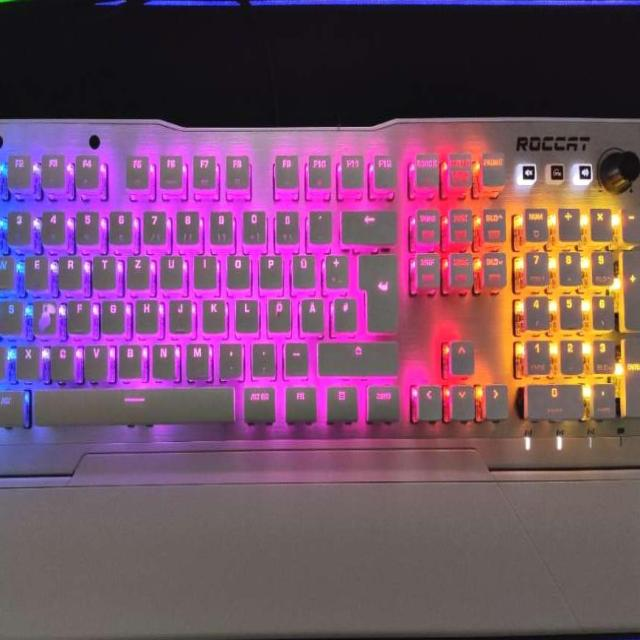0: (240, 205, 265, 241)
1: (0, 208, 12, 243)
2: (0, 208, 13, 244)
3: (5, 207, 30, 244)
4: (40, 207, 64, 242)
5: (73, 207, 98, 242)
6: (107, 206, 132, 242)
7: (140, 206, 165, 243)
8: (173, 206, 199, 243)
9: (207, 206, 232, 242)
a: (0, 297, 12, 332)
accent: (306, 206, 330, 240)
ae: (298, 293, 322, 329)
alt-left: (0, 385, 24, 425)
altgr-right: (241, 381, 274, 419)
b: (116, 340, 141, 376)
c: (49, 341, 72, 377)
caret: (0, 208, 12, 243)
comma: (216, 338, 241, 375)
d: (32, 297, 57, 332)
del: (339, 206, 395, 240)
e: (23, 251, 47, 288)
enter: (356, 247, 395, 331)
f: (66, 296, 89, 331)
g: (99, 296, 123, 331)
h: (133, 295, 156, 330)
hash: (331, 292, 355, 328)
i: (191, 251, 215, 285)
j: (166, 294, 190, 329)
k: (200, 294, 224, 330)
keyboard: (0, 116, 640, 474)
l: (233, 294, 257, 330)
less: (0, 343, 13, 379)
m: (183, 339, 208, 376)
minus: (281, 337, 306, 373)
n: (150, 339, 175, 376)
o: (224, 251, 249, 285)
oe: (265, 293, 289, 330)
p: (257, 250, 281, 286)
plus: (322, 249, 346, 285)
point: (249, 338, 274, 374)
q: (0, 252, 13, 288)
r: (57, 252, 80, 288)
s: (0, 297, 21, 331)
shift-left: (0, 345, 18, 380)
shift-lock: (0, 298, 24, 333)
shift-right: (316, 336, 397, 373)
space: (29, 383, 233, 423)
ss: (273, 207, 298, 242)
strg-left: (0, 388, 18, 428)
strg-right: (364, 380, 398, 419)
t: (91, 252, 114, 287)
tab: (0, 253, 20, 288)
u: (158, 251, 181, 287)
ue: (290, 250, 314, 286)
v: (82, 340, 107, 377)
w: (0, 252, 13, 288)
x: (15, 342, 38, 376)
y: (0, 343, 12, 378)
z: (124, 251, 147, 287)
